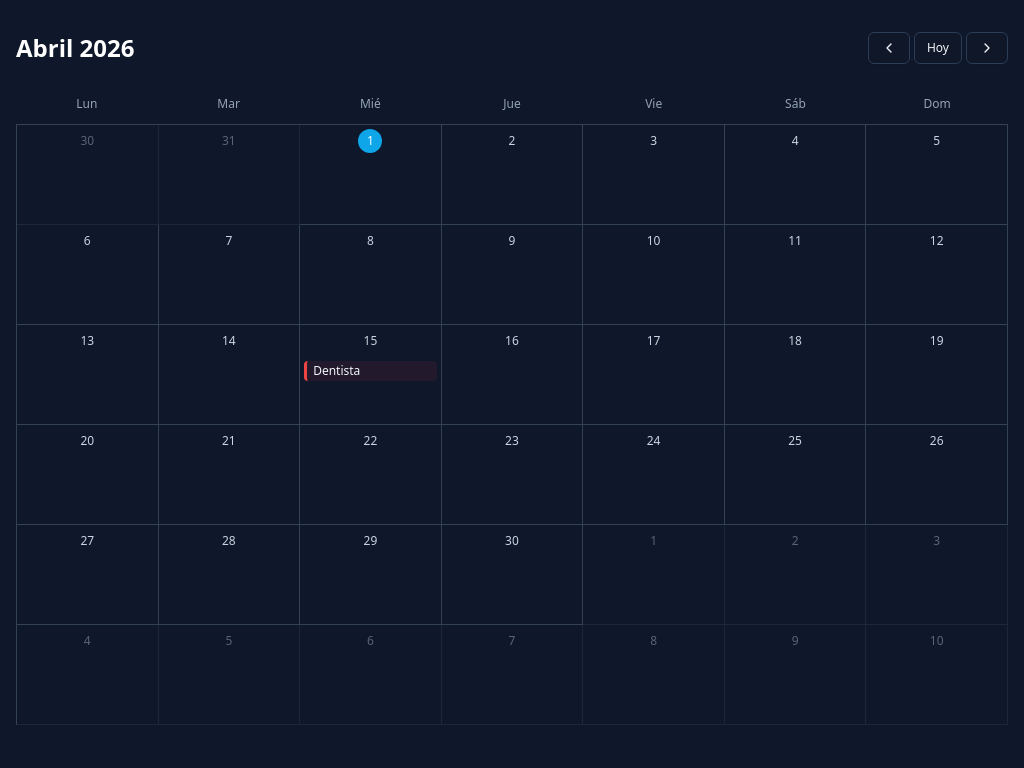
Test case: CalendarPage › navigates to previous month
Check: the text "Dentista" is shown, box [313,362,360,379]
Click the button named "Mes anterior" at (889, 48), box [868,32,910,64]
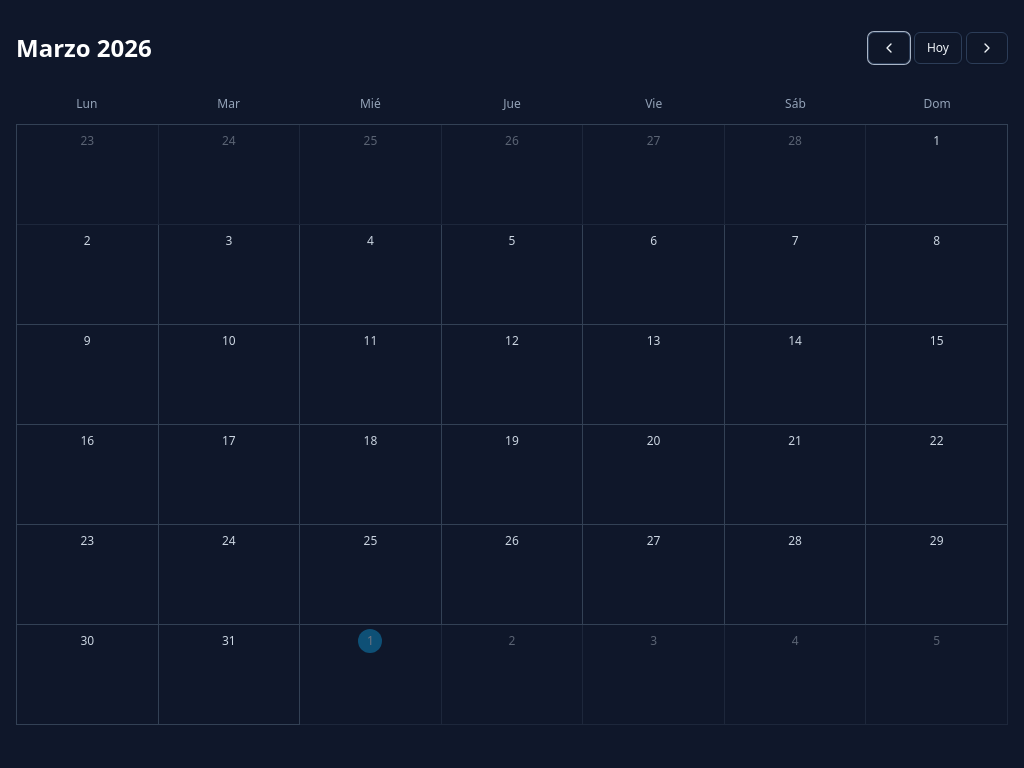
Check: the heading "marzo 2026" is shown, box [16,32,152,64]
